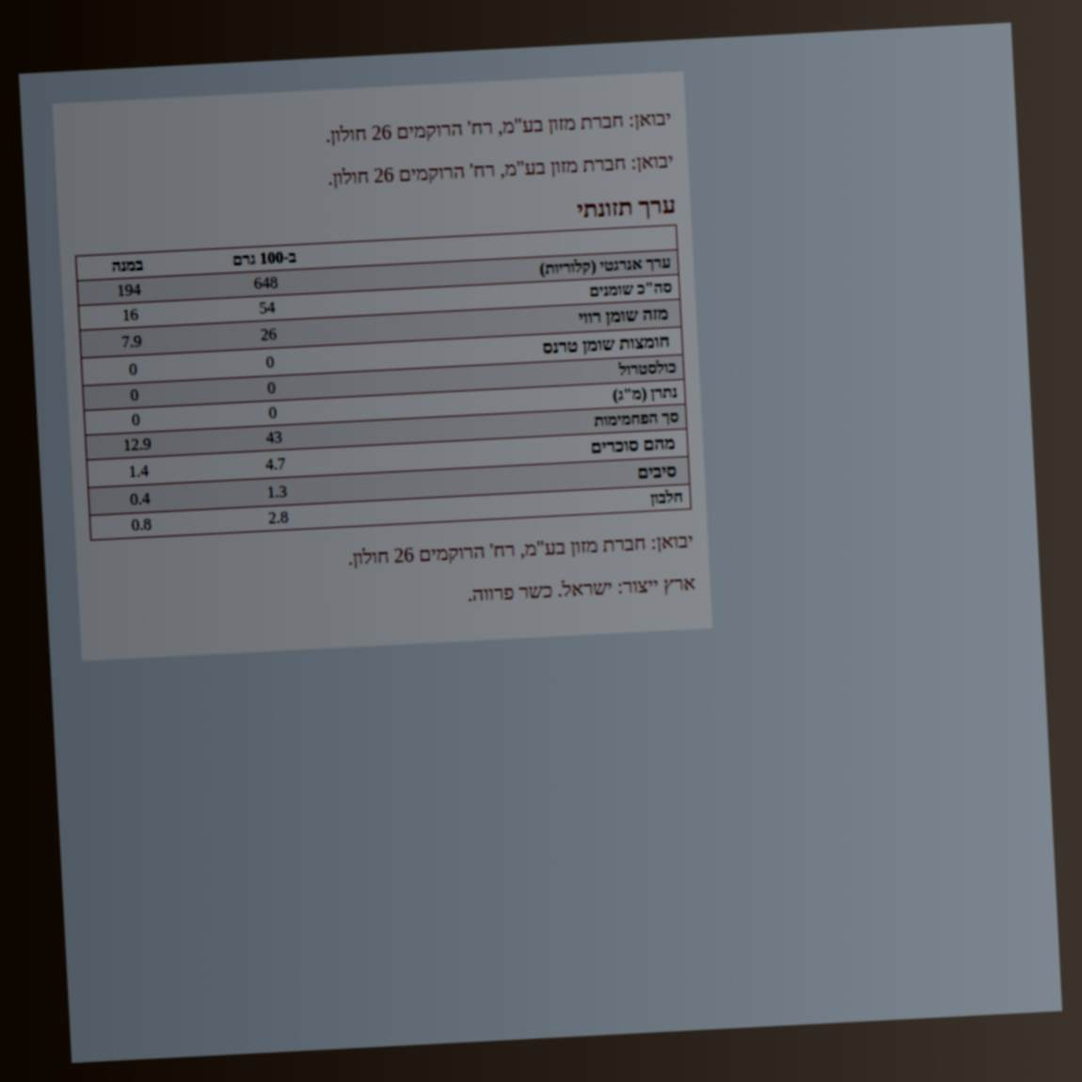carbs: (263, 426, 284, 448)
energy: (251, 272, 280, 294)
fat: (257, 297, 278, 319)
protein: (266, 506, 291, 529)
